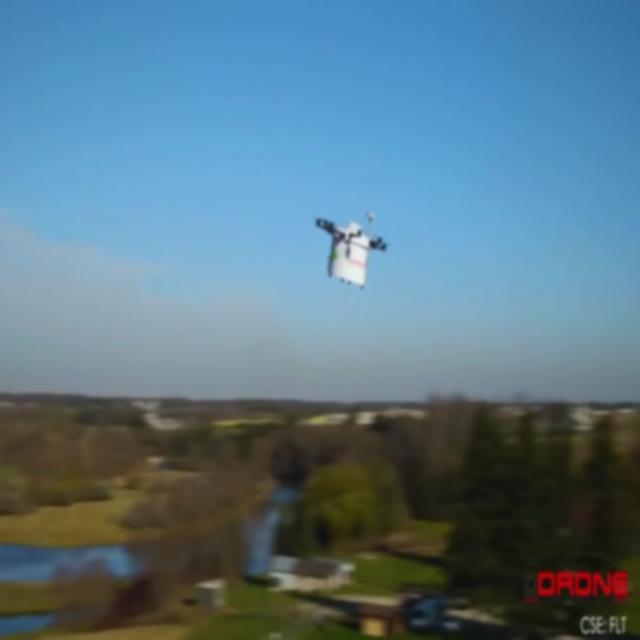UAV: (314, 212, 390, 290)
